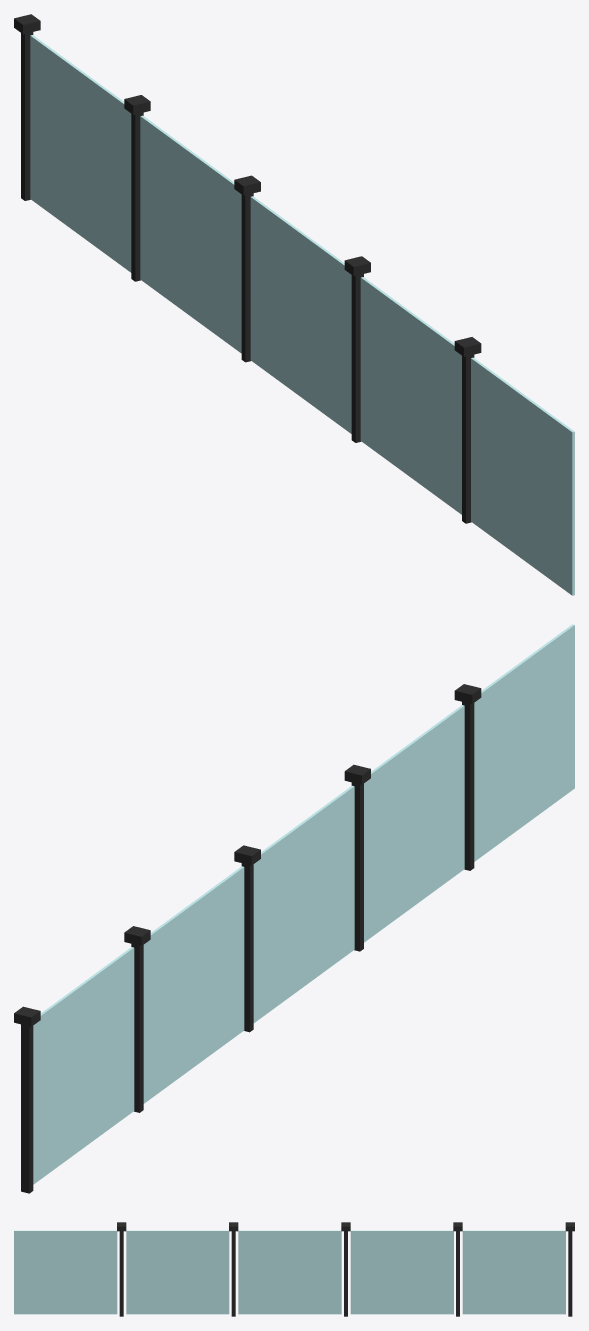
Rendered from Balcony.fbx.
The picture shows the model from 3 angles, top to bottom: view 1: azimuth 30°, elevation 25°; view 2: azimuth 150°, elevation 25°; view 3: azimuth 270°, elevation 25°; orthographic projection. The views are drawn at different scales.
Visible parts, largest first — view 1: Balcony; view 2: Balcony; view 3: Balcony.
Part boxes in pixels (x1,y1,x2,y2): Balcony: (14,14,574,595); Balcony: (14,624,574,1193); Balcony: (14,1222,574,1316).
Bounding box in the file's own units: 44.44 × 437 × 2438.
